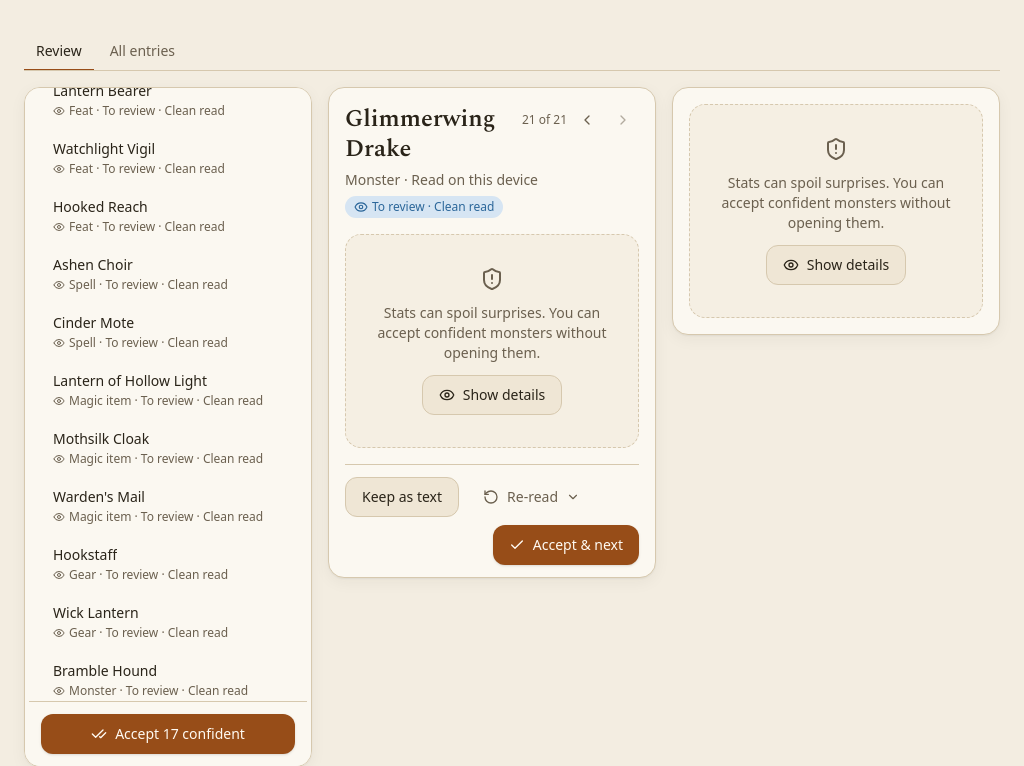
Test: the record detail › keeps monster stats behind "Show details" (remembered for the book)
The width and height of the screenshot is (1024, 766).
(page scrolled)
Check: the text "Stats can spoil surprises" is shown 2 times, box [370, 303, 614, 363]; [714, 173, 958, 233]
Check: the field labelled "HP" is not shown
Click the button "Show details" below "Read on this device".
click(492, 395)  # box [422, 375, 562, 415]
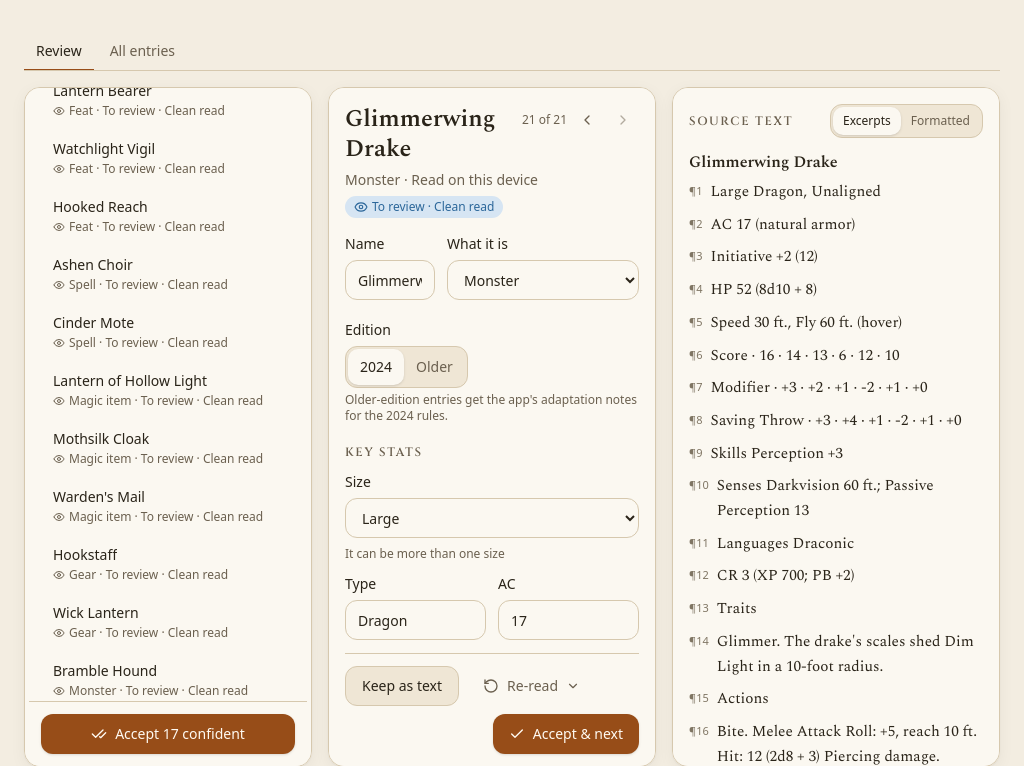
Check: the field labelled "HP" holds "52", box [498, 678, 639, 718]
Check: the button "Show details" is gone
